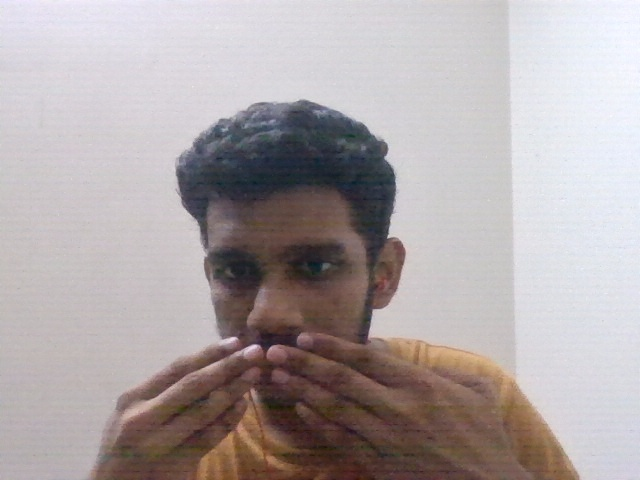thanks: (86, 331, 514, 471)
